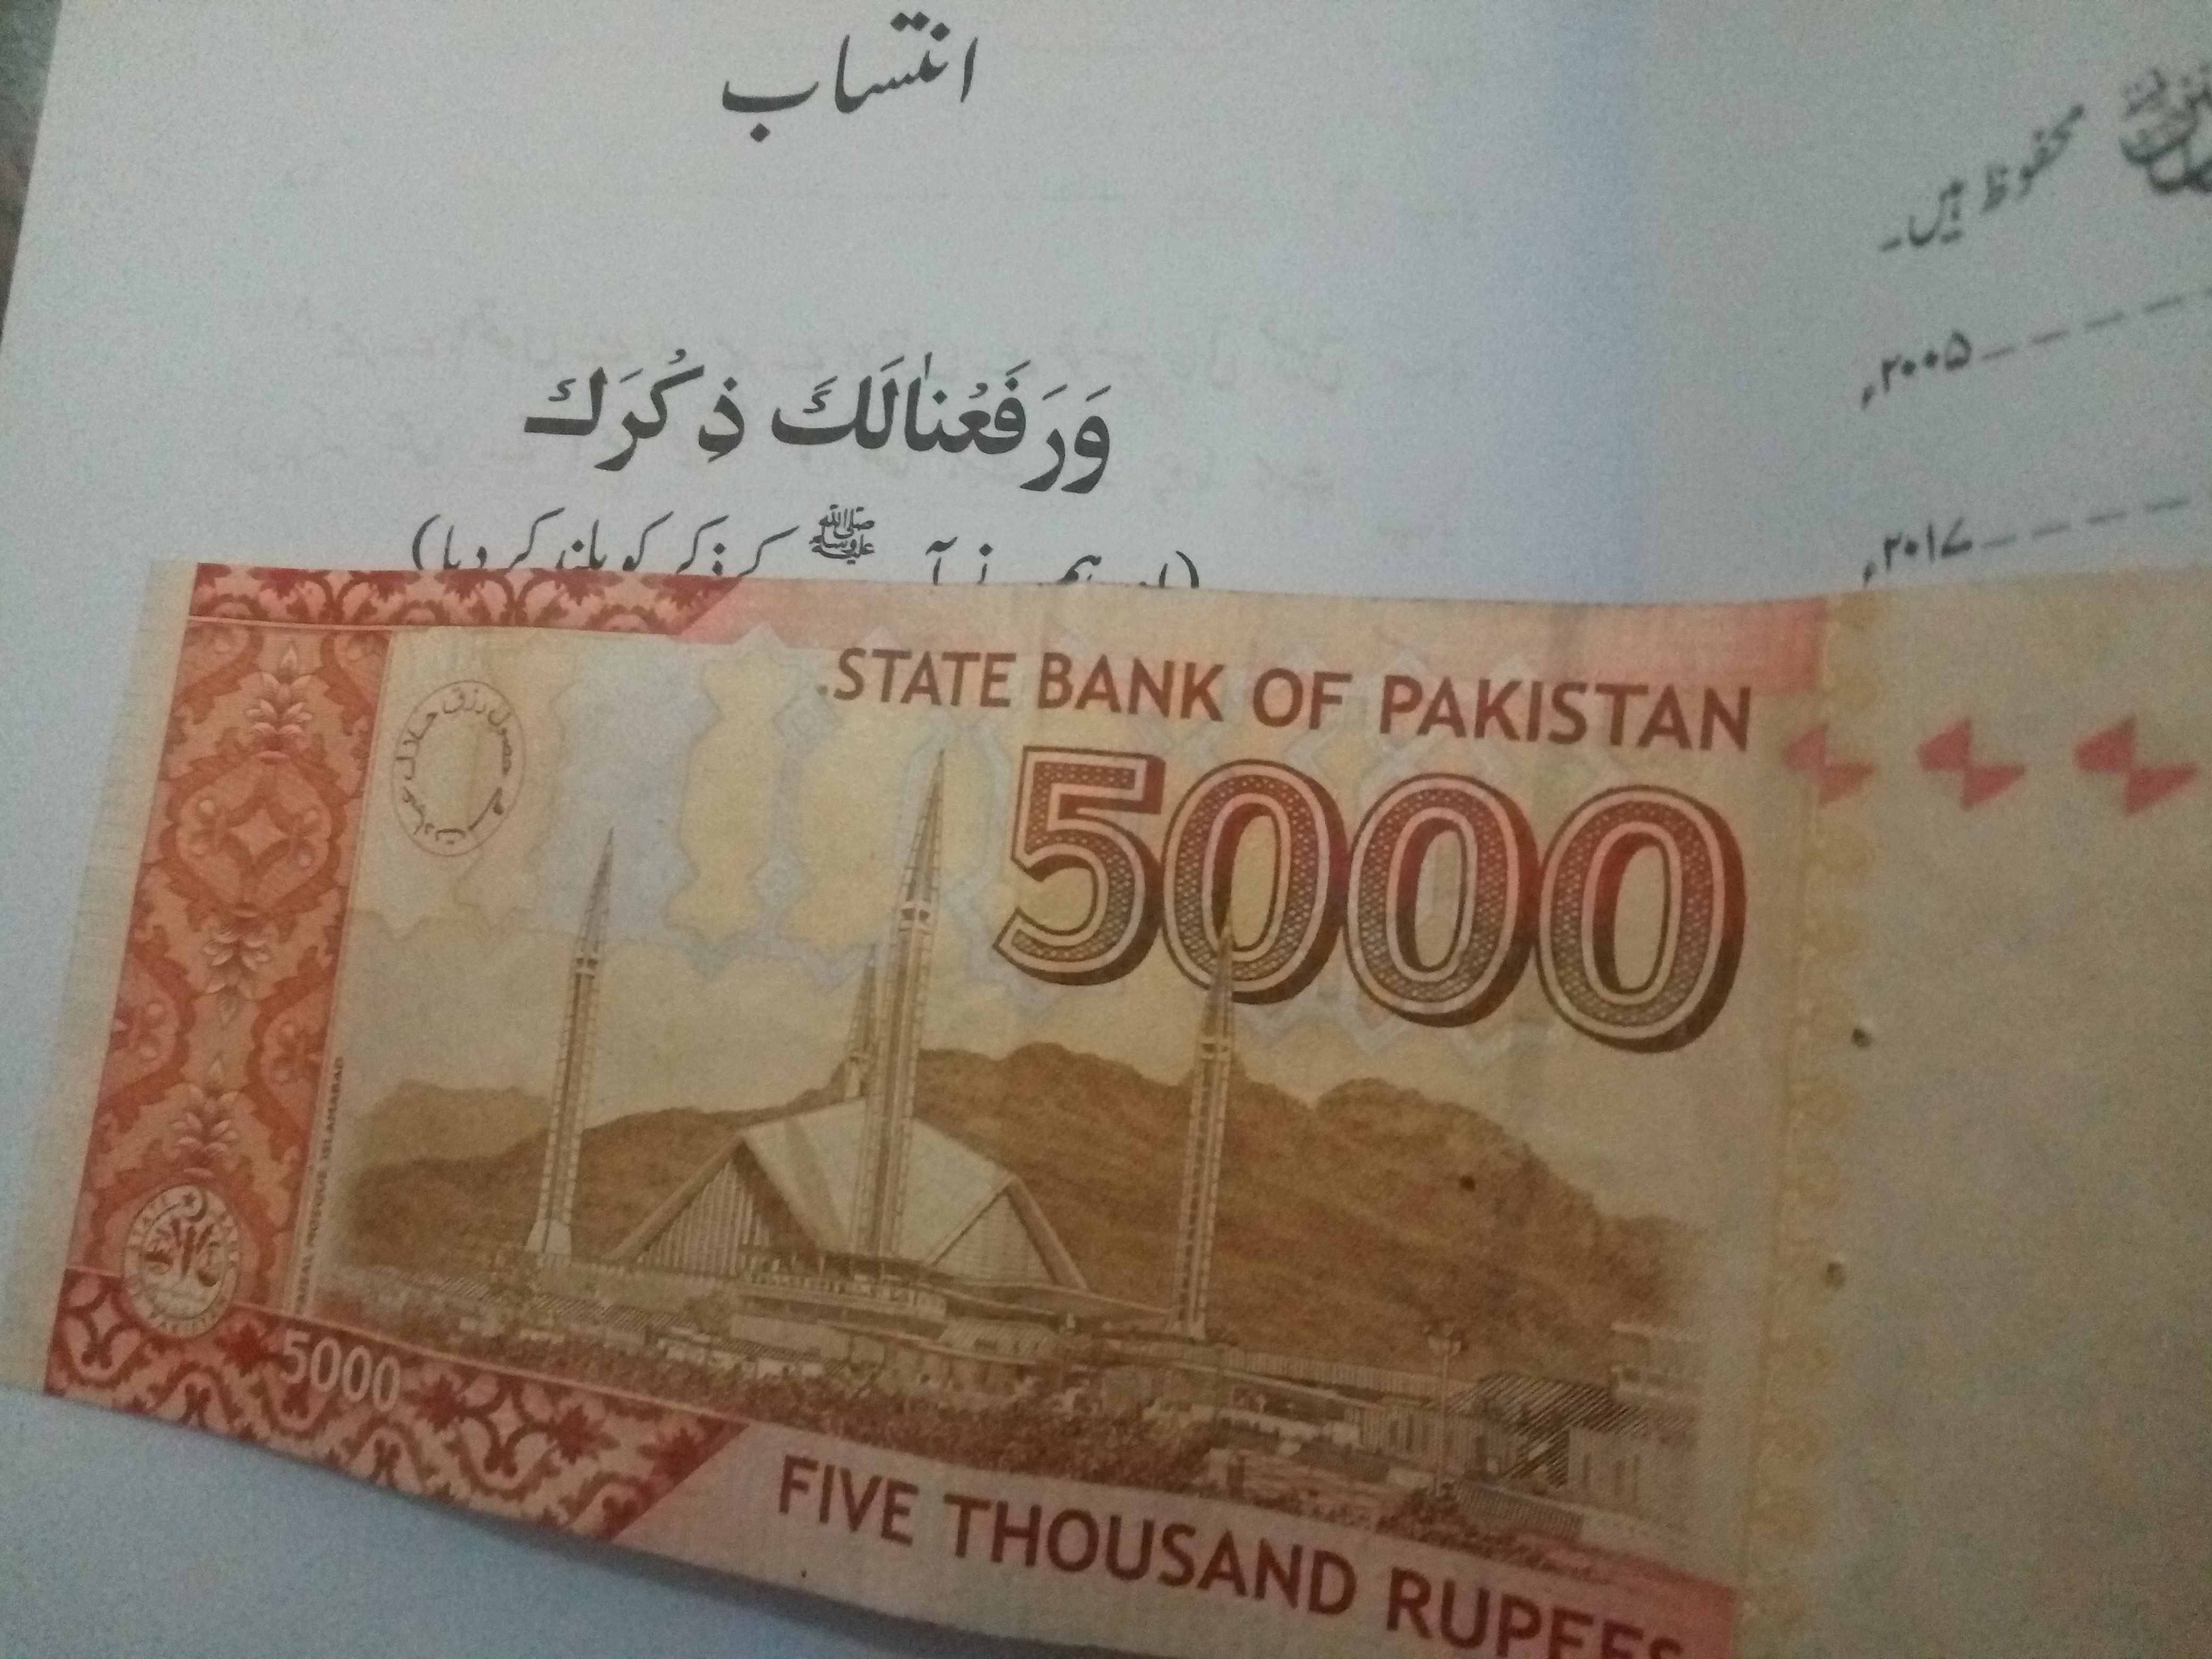5000 rupee: (106, 519, 2189, 1659)
